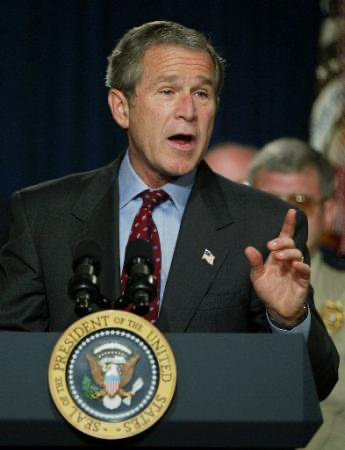Face: (130, 66, 219, 177), (251, 163, 326, 253)
